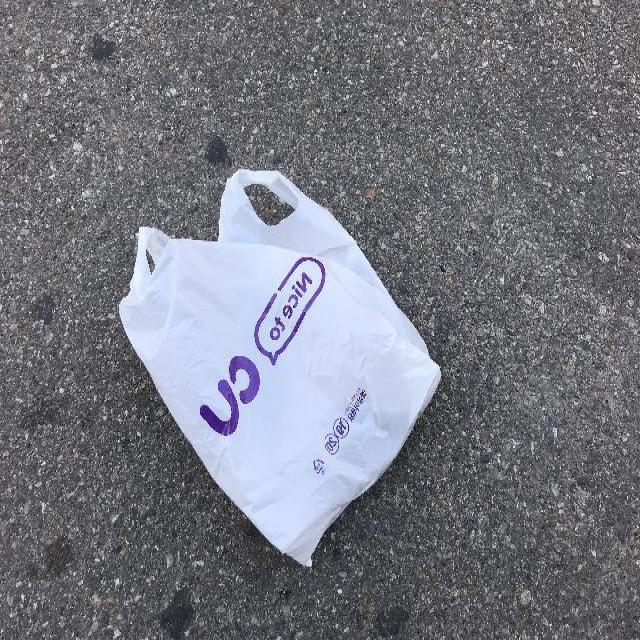plastic bag: (117, 162, 443, 570)
